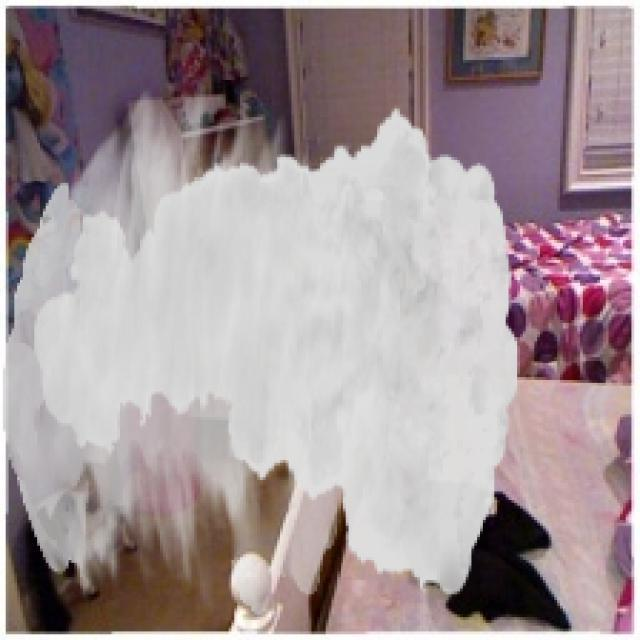Smoke: (3, 86, 520, 614)
